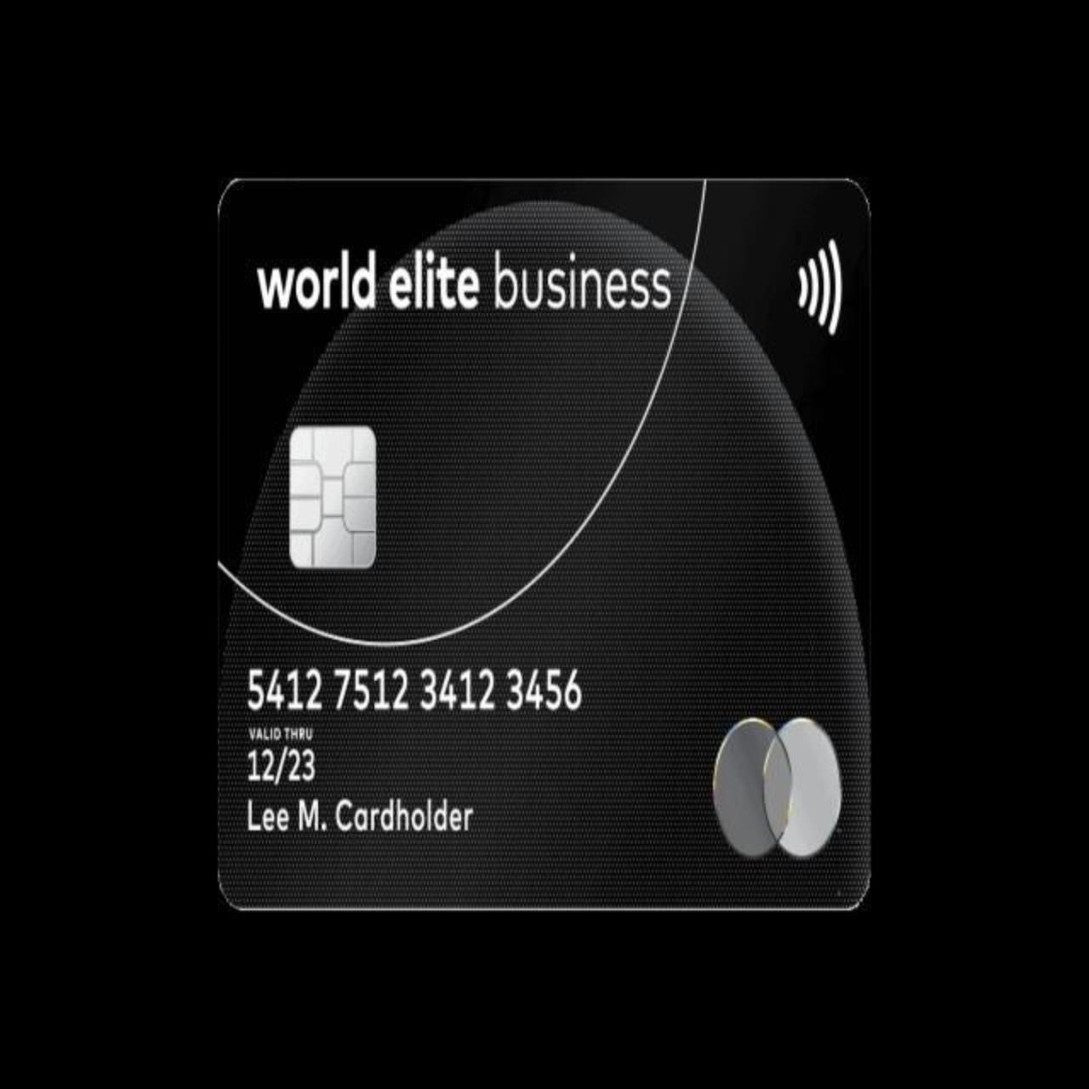credit_card: (211, 177, 864, 915)
